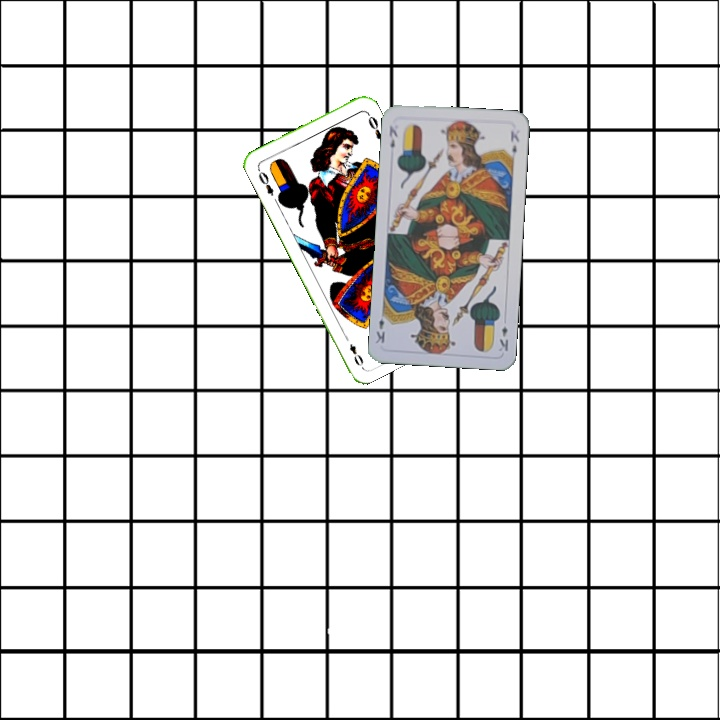EK: (495, 322, 511, 354), (385, 122, 400, 151)
EO: (253, 164, 276, 199)
